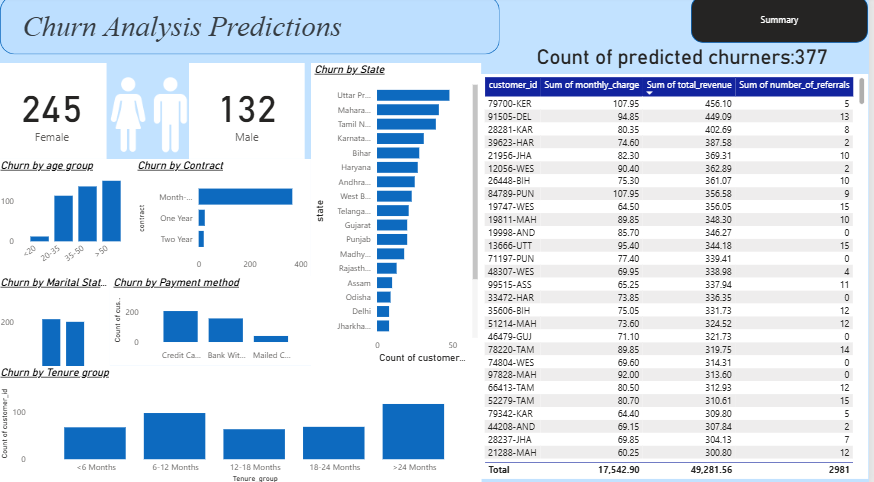

The dashboard page shown, as its layout file describes it:
{"tool":"powerbi","page":{"name":"Churn prediction","canvas":[1280,720],"ordinal":3},"visuals":[{"type":"tableEx","fields":{"Values":["all_customers_predictions.customer_id","Sum(all_customers_predictions.monthly_charge)","Sum(all_customers_predictions.total_revenue)","Sum(all_customers_predictions.number_of_referrals)"]},"box":[711.2,114.6,568.7,595.1],"z":0},{"type":"card","fields":{"Values":["Measure.Title predicted churner"]},"box":[732.9,58.6,547.1,55.7],"z":1000},{"type":"card","fields":{"Values":["Measure.Predicted churners"]},"box":[0,98.6,161.4,141.4],"z":2000},{"type":"card","fields":{"Values":["Measure.Predicted churners"]},"box":[281.4,98.6,170,141.4],"z":3000},{"type":"clusteredColumnChart","title":"Churn by age group","fields":{"Y":["CountNonNull(all_customers_predictions.customer_id)"],"Category":["mapping_agegrp.Age_group"]},"box":[0,240,202,172],"z":4000},{"type":"clusteredColumnChart","title":"Churn by Marital Status","fields":{"Y":["CountNonNull(all_customers_predictions.customer_id)"],"Category":["all_customers_predictions.married"]},"box":[0,412,166,168],"z":5000},{"type":"clusteredColumnChart","title":"Churn by Tenure group","fields":{"Y":["CountNonNull(all_customers_predictions.customer_id)"],"Category":["mapping_tenuregrp.Tenure_group"]},"box":[0,544,712,176],"z":6000},{"type":"clusteredColumnChart","title":"Churn by Payment method","fields":{"Y":["CountNonNull(all_customers_predictions.customer_id)"],"Category":["all_customers_predictions.payment_method"]},"box":[166,412,296,132],"z":7000},{"type":"clusteredBarChart","title":"Churn by Contract","fields":{"Category":["all_customers_predictions.contract"],"Y":["CountNonNull(all_customers_predictions.customer_id)"]},"box":[202,240,260,172],"z":8000},{"type":"clusteredBarChart","title":"Churn by State","fields":{"Category":["public churn_cleaned.state"],"Y":["CountNonNull(all_customers_predictions.customer_id)"]},"box":[461.4,98.6,250,445.7],"z":9000},{"type":"textbox","box":[32.3,14.7,740.6,72],"z":10000},{"type":"shape","box":[4.3,0,734.3,85.7],"z":11000},{"type":"image","box":[91.4,98.6,264.3,150],"z":12000},{"type":"shape","title":"Summary","box":[1020,0,260,68.6],"z":13000}]}

Visuals, with their boxes in screenshot pixels (x1, y1, x2, y2), scaled from the page's 1280x720 canvas onto the 874x482 screenshot:
tableEx - all_customers_predictions.customer_id x Sum(all_customers_predictions.monthly_charge): box(486, 77, 873, 475)
card - Measure.Title predicted churner: box(500, 39, 873, 77)
card - Measure.Predicted churners: box(0, 66, 110, 161)
card - Measure.Predicted churners: box(192, 66, 308, 161)
"Churn by age group" clusteredColumnChart: box(0, 161, 138, 276)
"Churn by Marital Status" clusteredColumnChart: box(0, 276, 113, 388)
"Churn by Tenure group" clusteredColumnChart: box(0, 364, 486, 481)
"Churn by Payment method" clusteredColumnChart: box(113, 276, 315, 364)
"Churn by Contract" clusteredBarChart: box(138, 161, 315, 276)
"Churn by State" clusteredBarChart: box(315, 66, 486, 364)
textbox: box(22, 10, 528, 58)
shape: box(3, 0, 504, 57)
image: box(62, 66, 243, 166)
"Summary" shape: box(696, 0, 873, 46)
